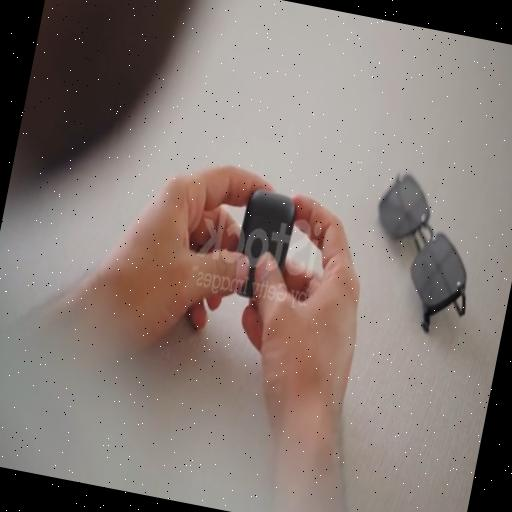earphone: (218, 179, 304, 298)
